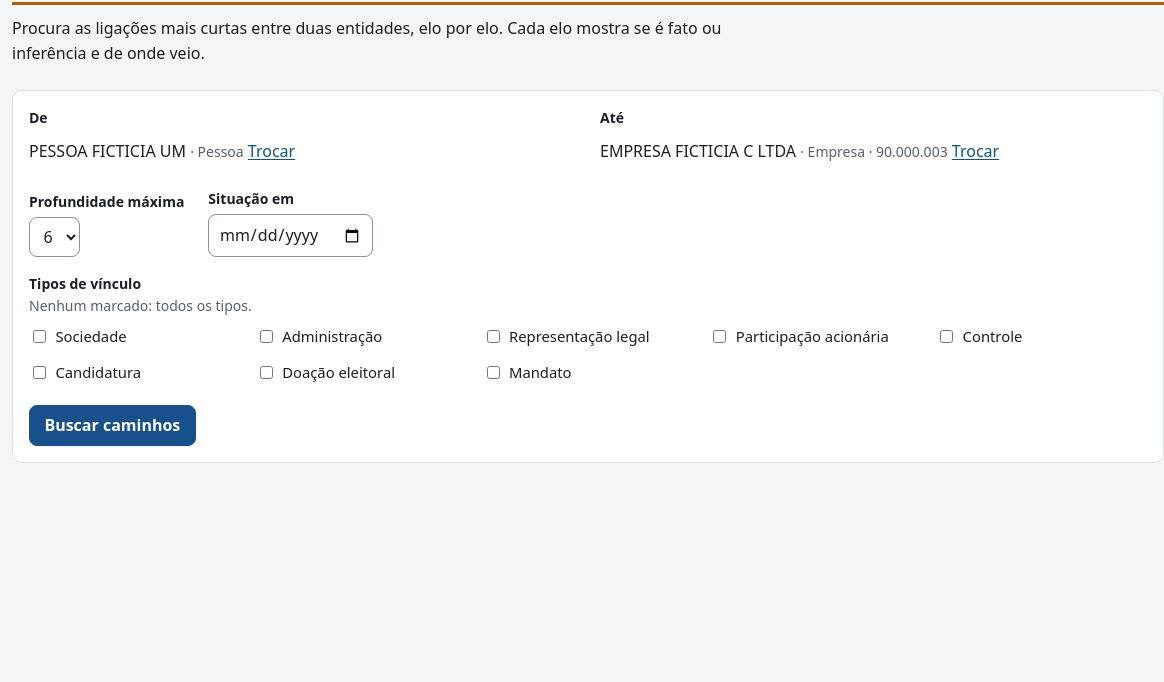
Test: PathsPage › caminhos: mostra "parou em PT1 (601 vínculos)" quando há stopped_hubs
This screenshot has width=1164, height=682.
Expected: the text "EMPRESA FICTICIA C LTDA" is shown, [600,140,796,162]
Click the button "Buscar caminhos" at (112, 425), box [29,404,196,446]
(page scrolled)
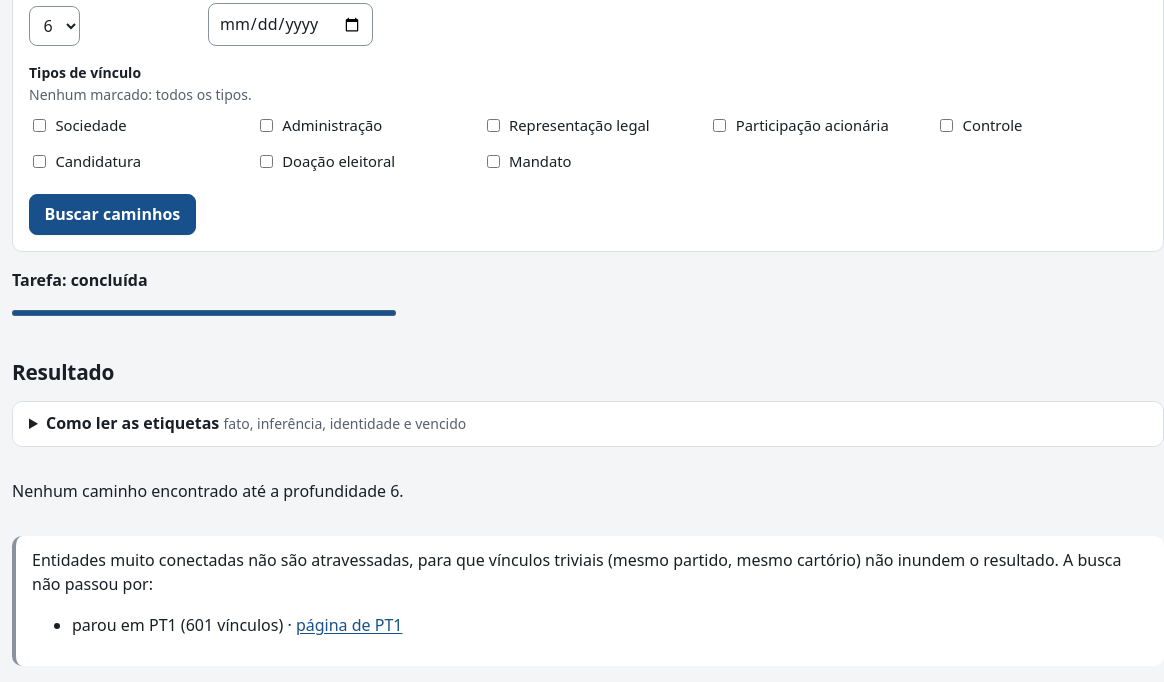
Result: the text "parou em PT1 (601 vínculos)" is shown at [72,614,283,636]
Result: the text "muito conectadas não são atravessadas" is shown at [32,549,1122,595]
Result: the text "Nenhum caminho encontrado até a profundidade 6." is shown at [12,480,404,502]
